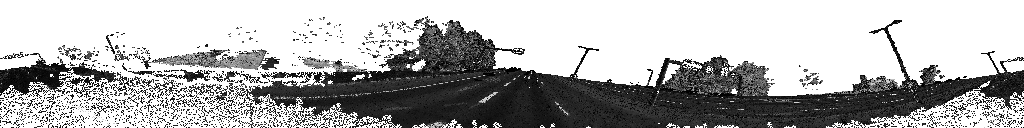gantry_sign_pole: (648, 58, 741, 108), (472, 46, 525, 69), (1, 53, 46, 66)
light_pole: (869, 21, 933, 105), (567, 47, 598, 83), (106, 33, 126, 64), (981, 52, 1002, 77), (646, 69, 653, 86)
traffic_pole: (135, 48, 150, 70)
